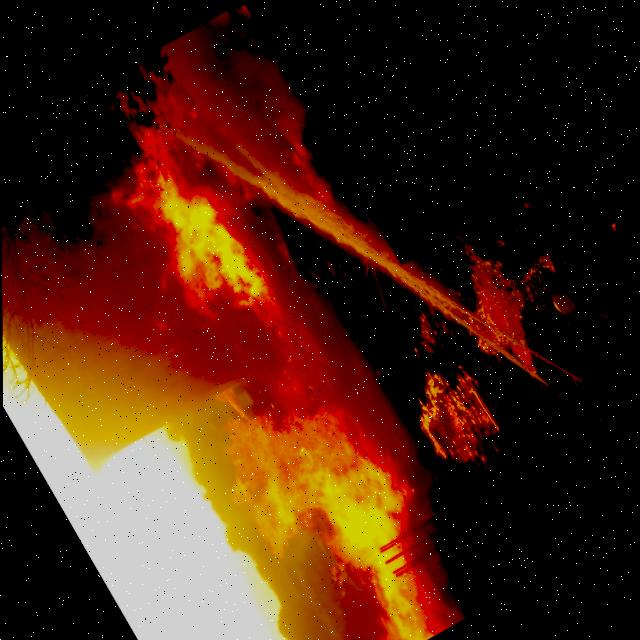Fire: (182, 331, 481, 640), (89, 111, 275, 341)
